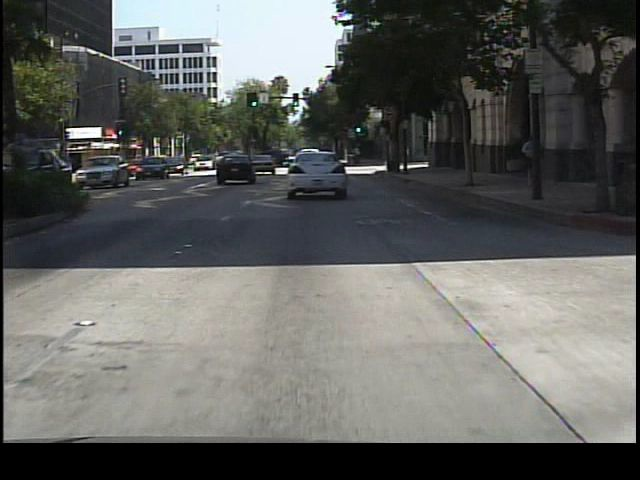person: (520, 132, 544, 194)
